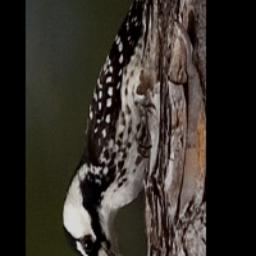Woodpecker: (58, 0, 162, 256)
